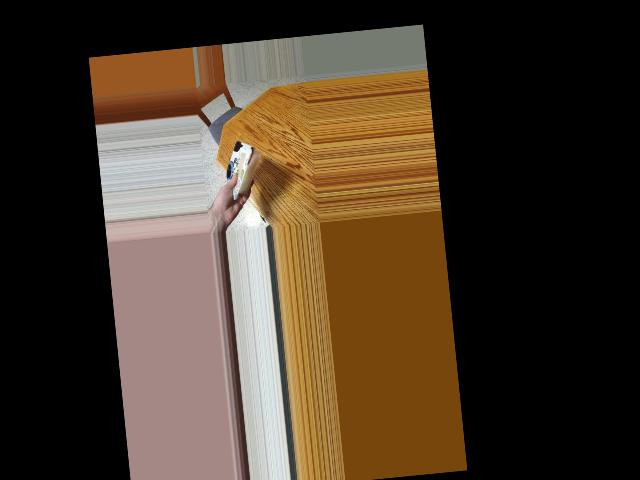cheese: (214, 141, 263, 192)
